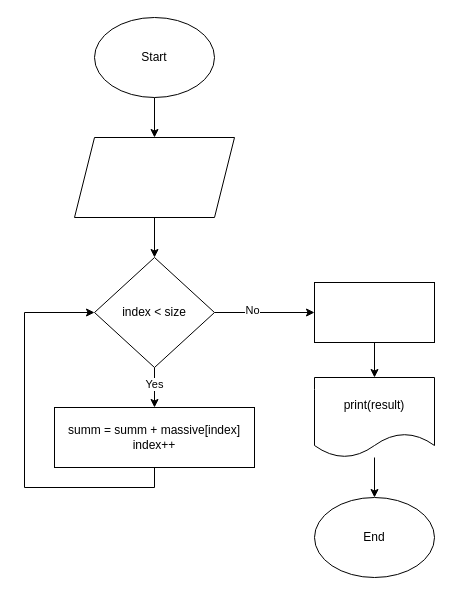
The diagram is 452 pixels wide and 595 high, and some of its shapes have lost their labels. The centre of each missing label's shape, as x and y in pixels:
"massive = [] index = 0 size = massive.lenght summ result" belongs at [154,177].
"result = summ / size" belongs at [374,312].
